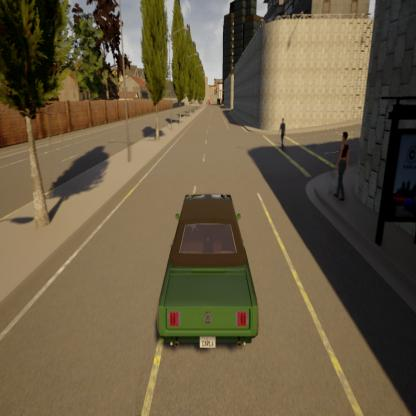Cars: (154, 190, 269, 359)
Pedestrian: (334, 128, 351, 208), (276, 116, 289, 152)
